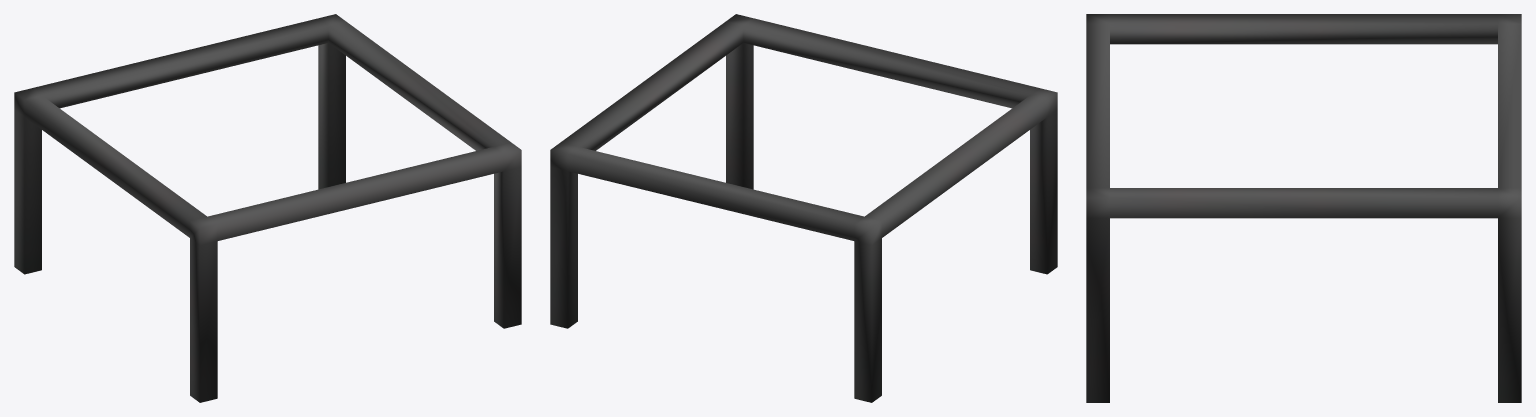
Rendered from TubulationSupportEng.fbx.
The picture shows the model from 3 angles, left to right: view 1: azimuth 30°, elevation 25°; view 2: azimuth 150°, elevation 25°; view 3: azimuth 270°, elevation 25°; orthographic projection. The views are drawn at different scales.
Visible parts, largest first — view 1: TubulationSupportEng; view 2: TubulationSupportEng; view 3: TubulationSupportEng.
Part boxes in pixels (x1=…): TubulationSupportEng: x1=14, y1=14, x2=521, y2=402; TubulationSupportEng: x1=550, y1=14, x2=1057, y2=402; TubulationSupportEng: x1=1086, y1=14, x2=1521, y2=402.
Bounding box in the file's own units: 58.17 × 30.2 × 58.15.
Materials: 1 (1 with a texture image).
